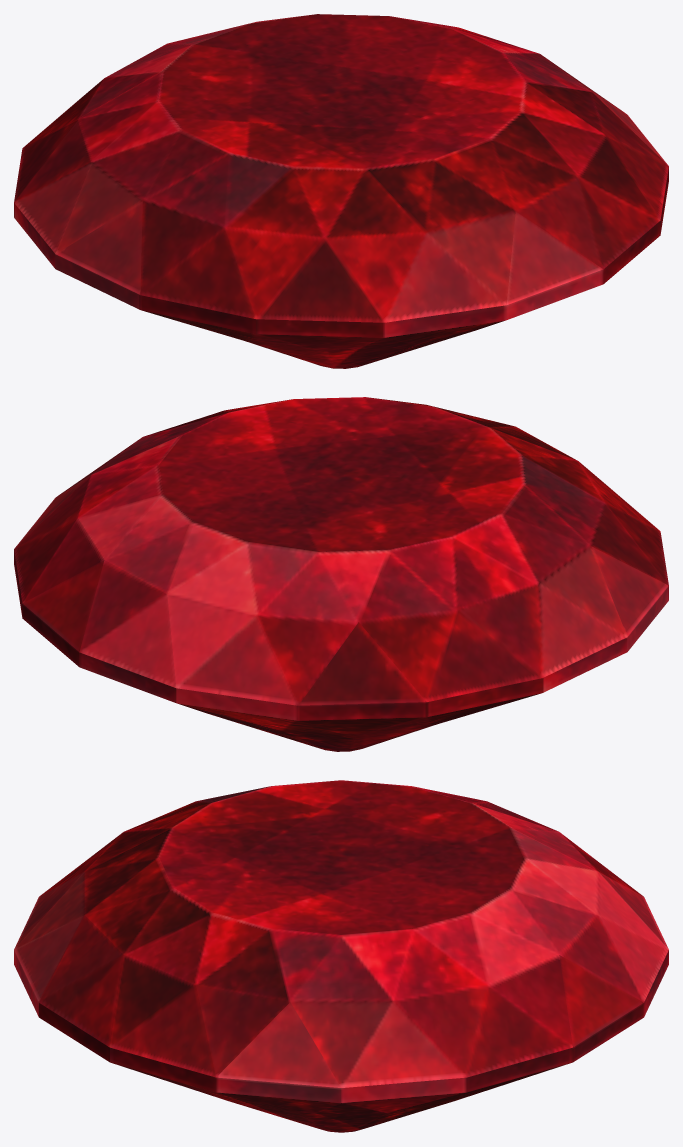
File: item_maw_craft_gem06.glb
3 views of the same model, one above another, from view 1: azimuth 30°, elevation 25°; view 2: azimuth 150°, elevation 25°; view 3: azimuth 270°, elevation 25° (orthographic).
Visible parts, largest first — view 1: maw_gem06; view 2: maw_gem06; view 3: maw_gem06.
Boxes of the visible parts, left/top/right/bottom form: maw_gem06: left=14, top=14, right=668, bottom=368; maw_gem06: left=14, top=397, right=668, bottom=751; maw_gem06: left=14, top=780, right=668, bottom=1132.
Size of the model in its own units: 2 by 0.88 by 2.
1 material, 1 textured.
